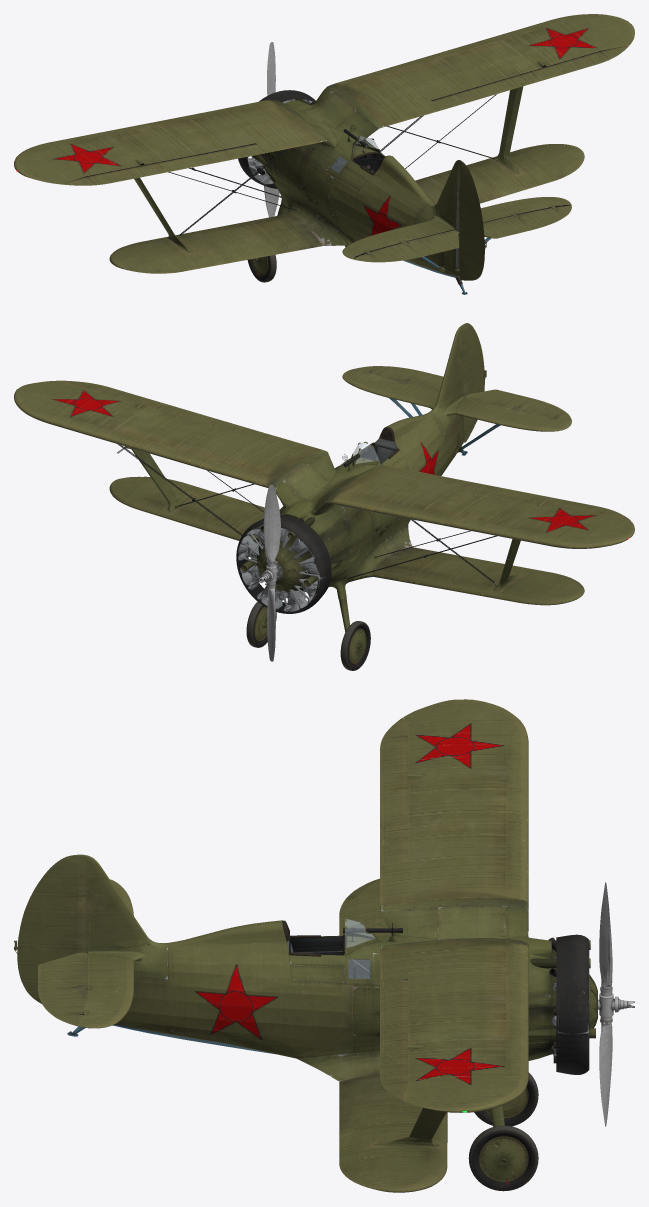
Rendered from i15-soviet.glb.
3 renders of one model, top to bottom at view 1: azimuth 30°, elevation 25°; view 2: azimuth 150°, elevation 25°; view 3: azimuth 270°, elevation 25°, orthographic. The views are drawn at different scales.
Visible parts, largest first — view 1: wing_l, wing_r, fuse, tail, fuse_material_2_01, rudder, flaperon_r, flaperon_l, elevator0, elevator1, prop01_1, wheel_l (+2 smaller); view 2: wing_l, wing_r, fuse, tail, engine1, fuse_material_2_01, prop01_1, rudder, flaperon_r, elevator0, flaperon_l, wheel_l (+4 smaller); view 3: wing_r, fuse, wing_l, tail, fuse_material_2_01, rudder, flaperon_l, wheel_r, flaperon_r, elevator1, prop01_1, wheel_l (+1 smaller).
Boxes of the visible parts, x1,y1,x2,y2 form: wing_l: [14, 100, 323, 273]; wing_r: [330, 14, 634, 203]; fuse: [238, 85, 412, 245]; tail: [342, 160, 571, 278]; fuse_material_2_01: [271, 98, 412, 245]; rudder: [454, 160, 486, 280]; flaperon_r: [432, 45, 628, 110]; flaperon_l: [61, 144, 265, 185]; elevator0: [354, 230, 459, 262]; elevator1: [483, 205, 571, 238]; prop01_1: [264, 42, 279, 217]; wheel_l: [247, 254, 276, 282]; wing_l: [329, 464, 634, 605]; wing_r: [14, 380, 323, 542]; fuse: [236, 418, 432, 613]; tail: [342, 327, 571, 475]; engine1: [238, 525, 317, 611]; fuse_material_2_01: [259, 418, 432, 590]; prop01_1: [259, 484, 280, 661]; rudder: [460, 323, 486, 442]; flaperon_r: [61, 380, 265, 437]; elevator0: [464, 389, 571, 422]; flaperon_l: [432, 476, 629, 519]; wheel_l: [340, 621, 370, 670]; wing_r: [339, 938, 528, 1192]; fuse: [224, 900, 597, 1081]; wing_l: [339, 699, 528, 935]; tail: [77, 855, 224, 1045]; fuse_material_2_01: [224, 908, 597, 1081]; rudder: [14, 854, 85, 1003]; flaperon_l: [380, 717, 407, 864]; wheel_r: [468, 1125, 538, 1191]; flaperon_r: [380, 980, 407, 1100]; elevator1: [38, 953, 87, 1026]; prop01_1: [598, 882, 634, 1126]; wheel_l: [474, 1072, 538, 1126].
Bounding box in the file's own units: 6.56 × 2.25 × 4.18.
6 materials, 1 textured.
